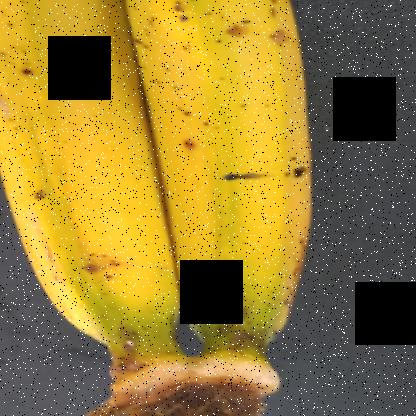freshripe: (0, 1, 181, 342)
ripe: (115, 1, 372, 332)
